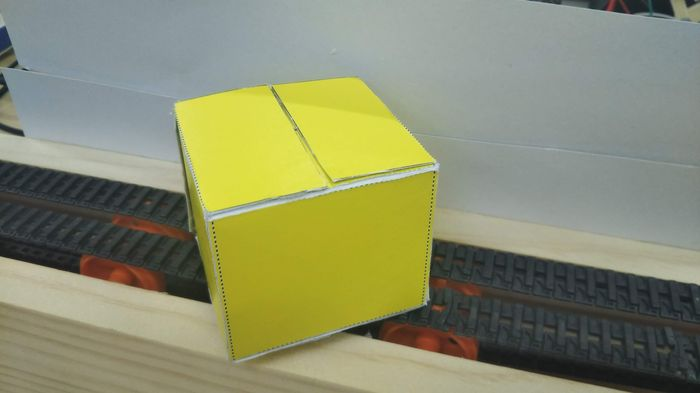box4: (170, 74, 437, 362)
